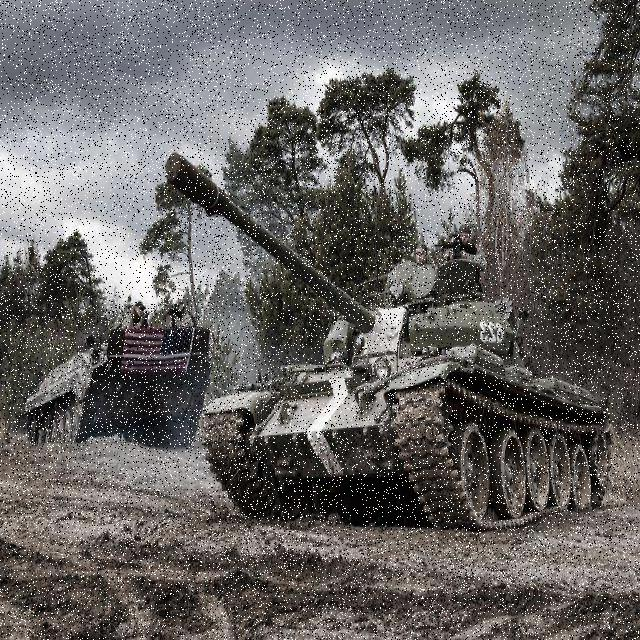MIL_MBT: (198, 224, 619, 575), (9, 304, 213, 445)
